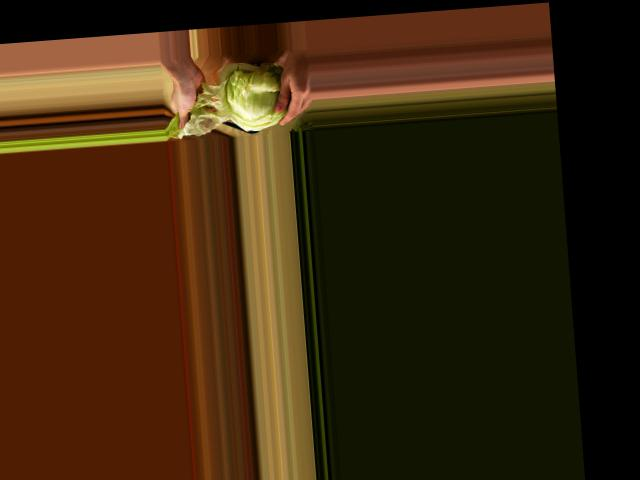lettuce: (201, 54, 293, 137)
